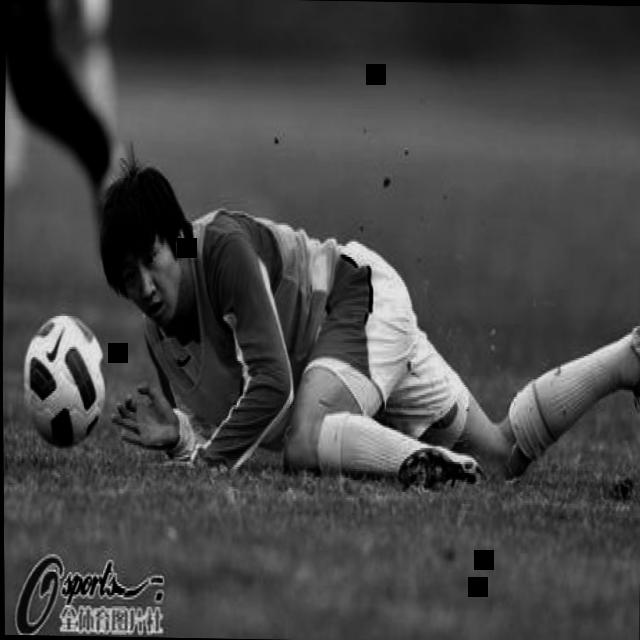Fall-Detected: (63, 128, 640, 509)
